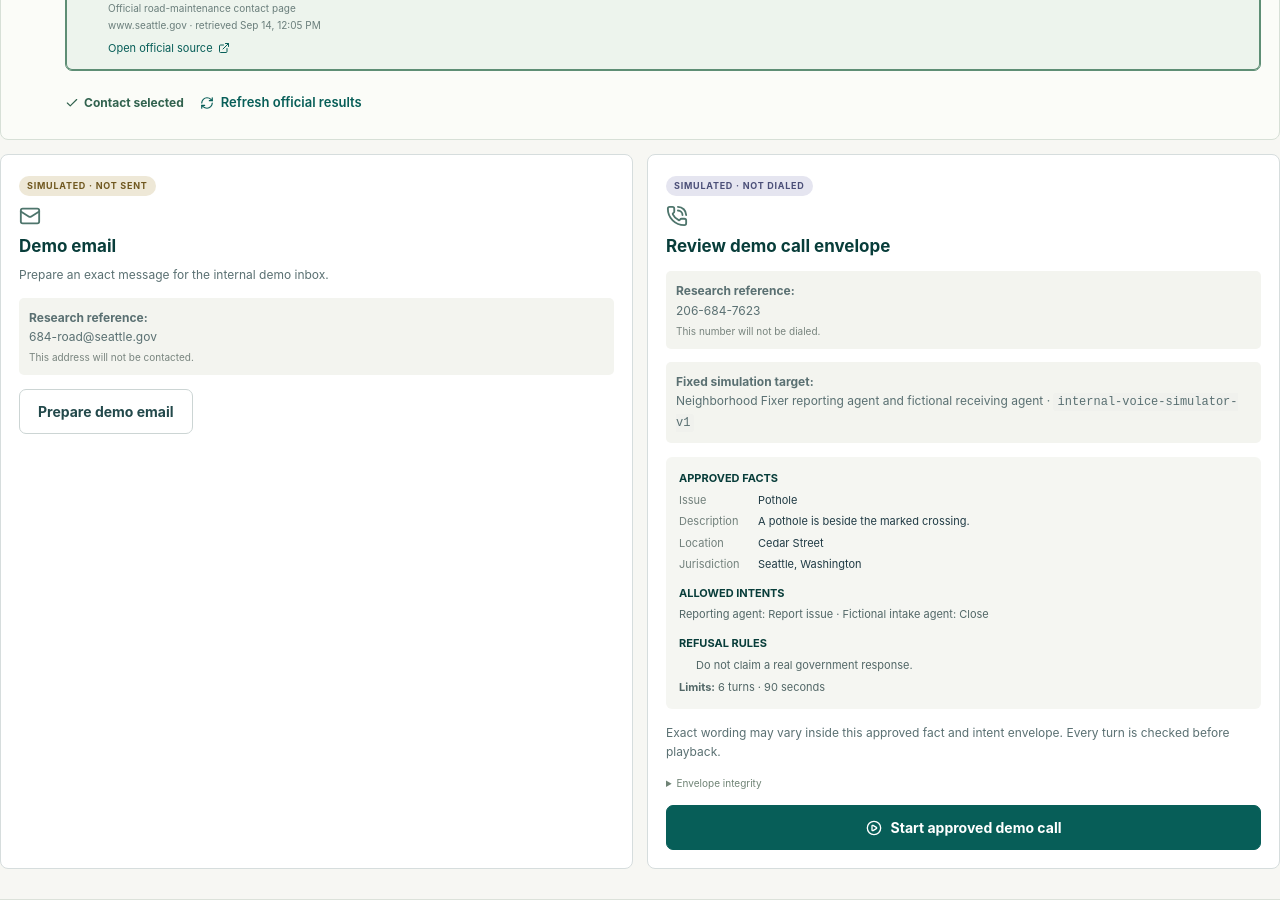
Test: internal outreach simulations › clears an interrupted voice poll and reloads its durable receipt
(page scrolled)
Click the button "Start approved demo call" at (964, 828), box [666,805,1261,850]
(page scrolled)
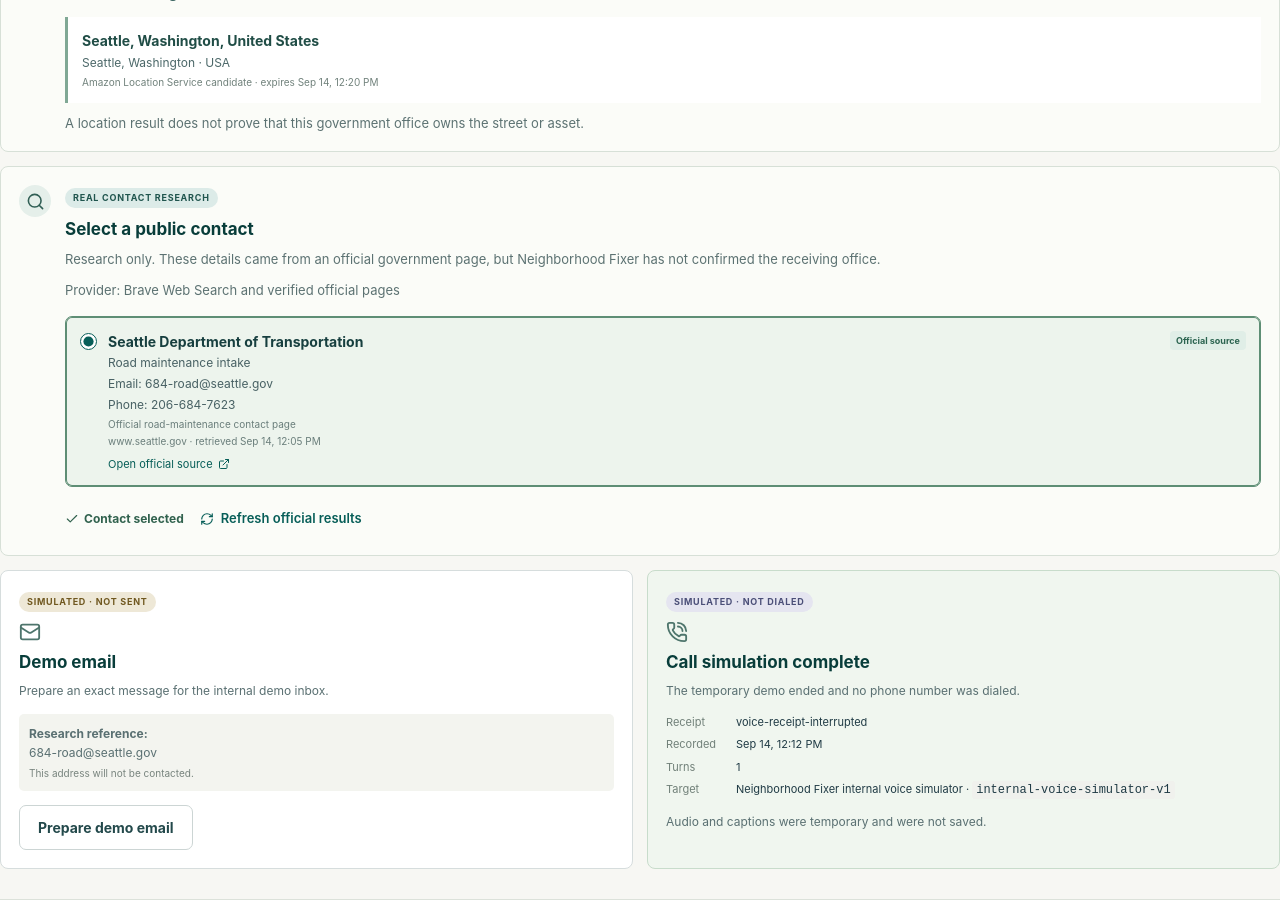
expect the heading "Call simulation complete" is shown: met, box [666,652,870,672]
expect the text "The temporary demo ended and no phone number was dialed." is shown: met, box [666,683,1020,698]
